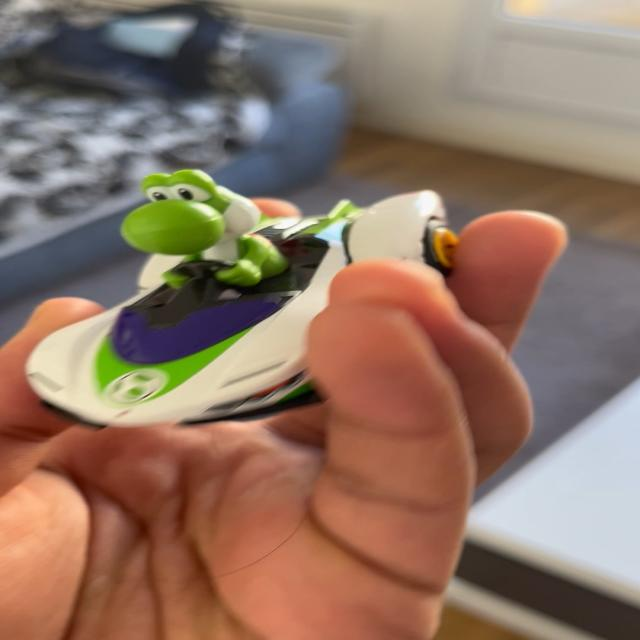yoshi: (13, 146, 473, 438)
